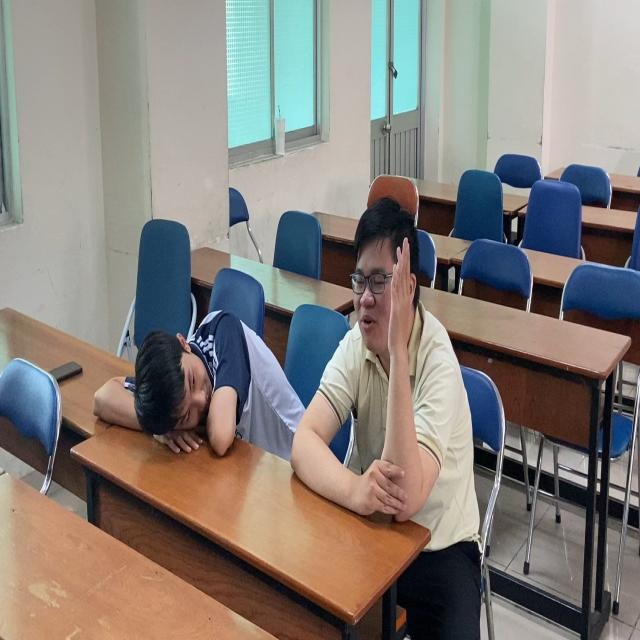raise_hand: (325, 195, 460, 535)
sleep: (85, 306, 283, 469)
